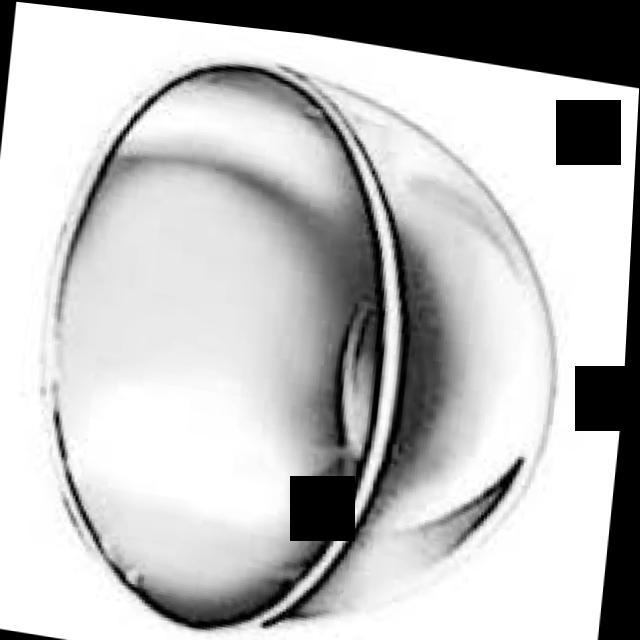Sponge Bowl: (9, 11, 586, 640)
